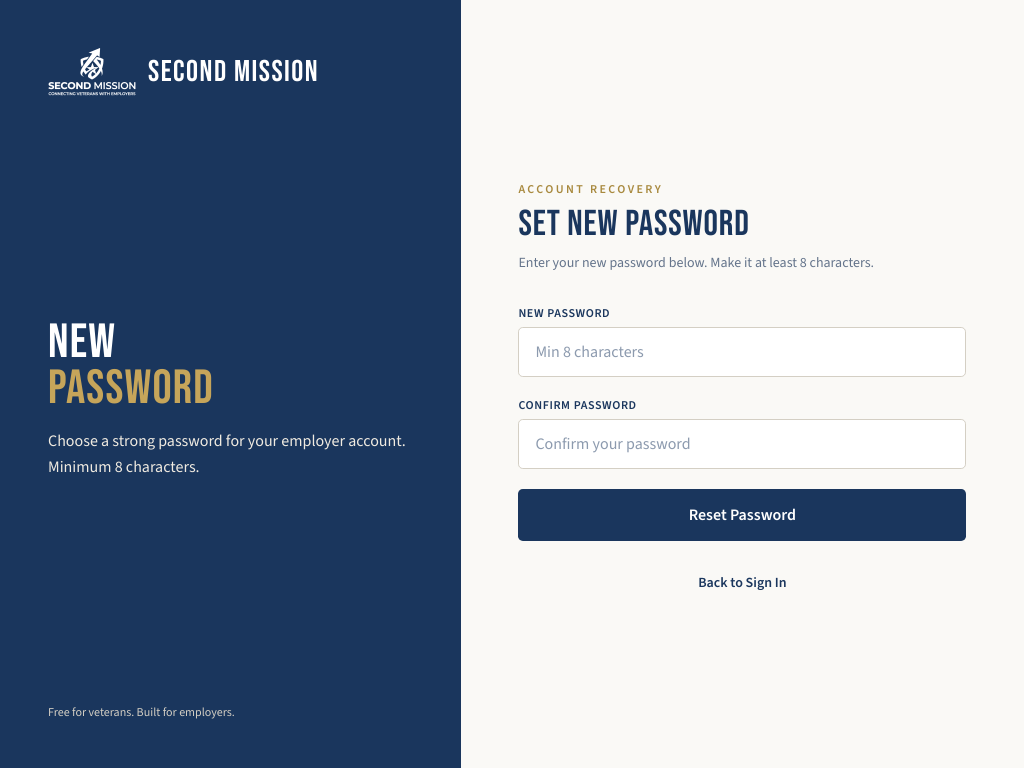
Test case: EmployerResetPasswordPage › validates password match
The width and height of the screenshot is (1024, 768).
Type "newpassword123" into the password field with placeholder "Min 8 characters" at (742, 352), box [518,326,966,376]
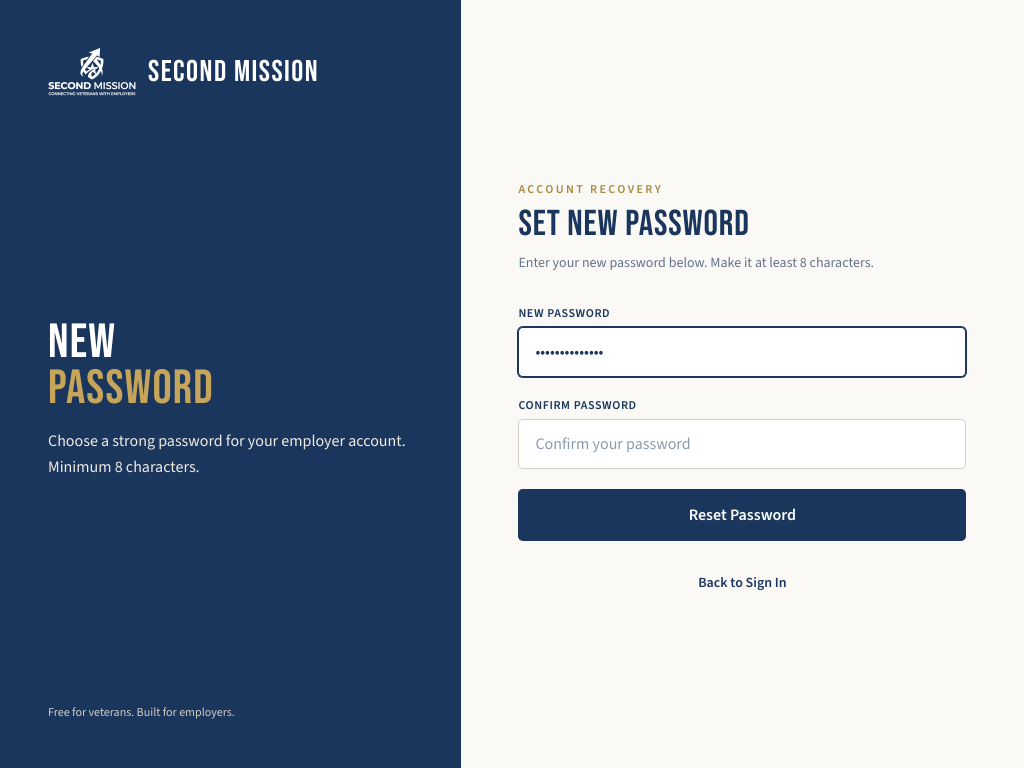
Type "different123" into the password field with placeholder "Confirm your password" at (742, 444), box [518,418,966,468]
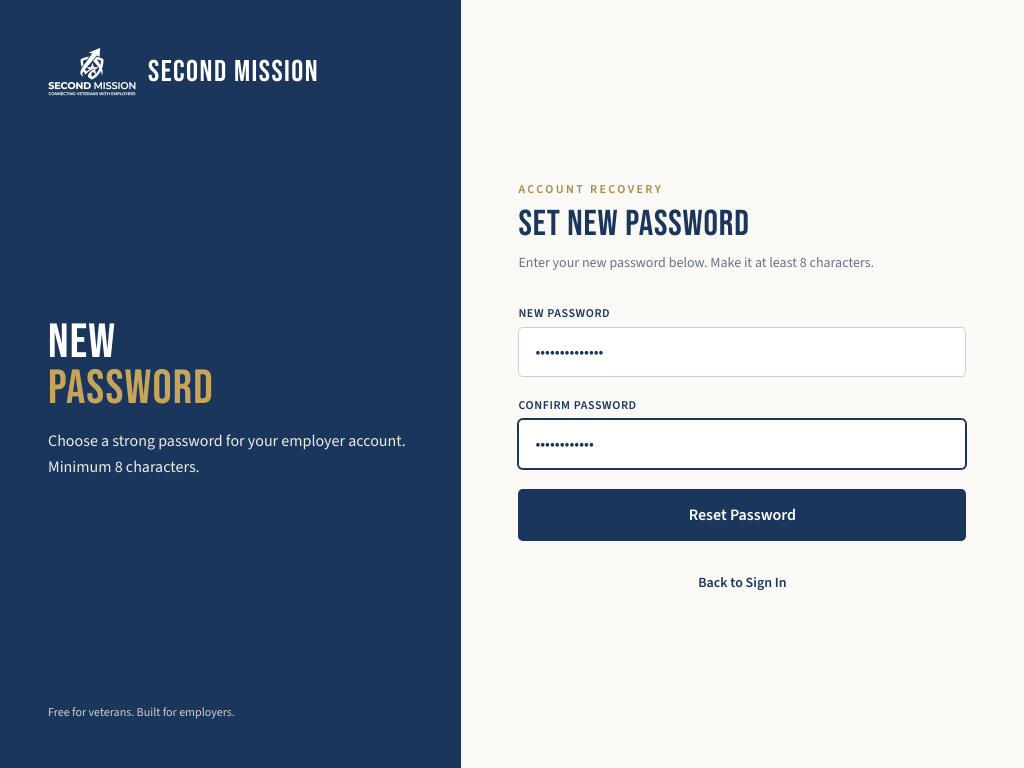
Click the button "Reset Password" at (742, 514), box [518,488,966,540]
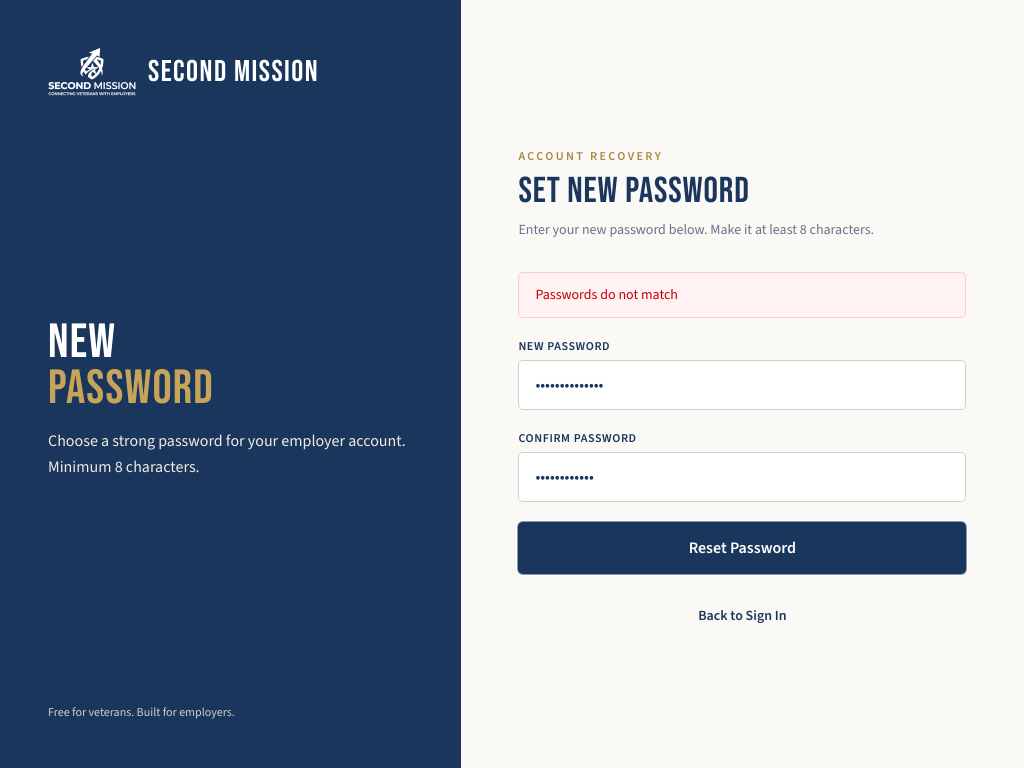
Now the text "Passwords do not match" is shown, box [518,272,966,318]
